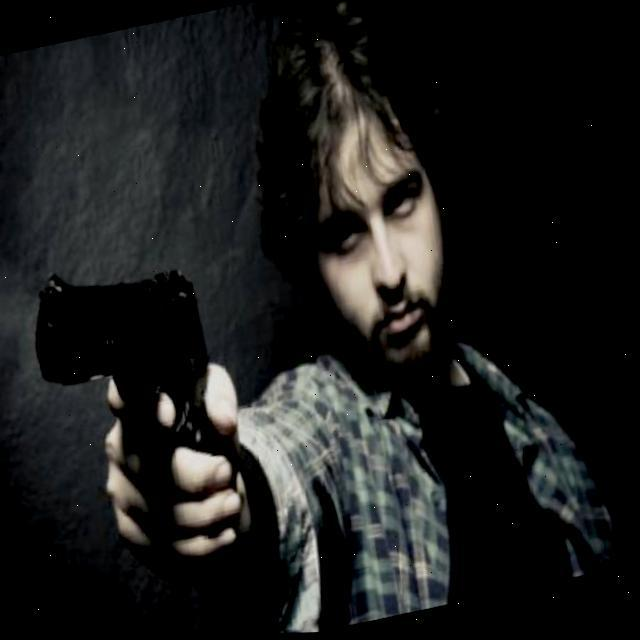gun: (13, 238, 249, 505)
